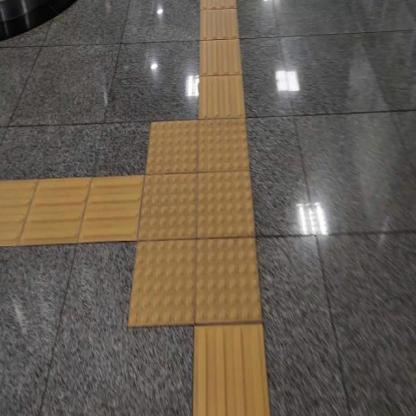podotacti: (108, 88, 294, 353), (0, 180, 137, 246), (191, 325, 269, 416), (199, 0, 246, 116)
